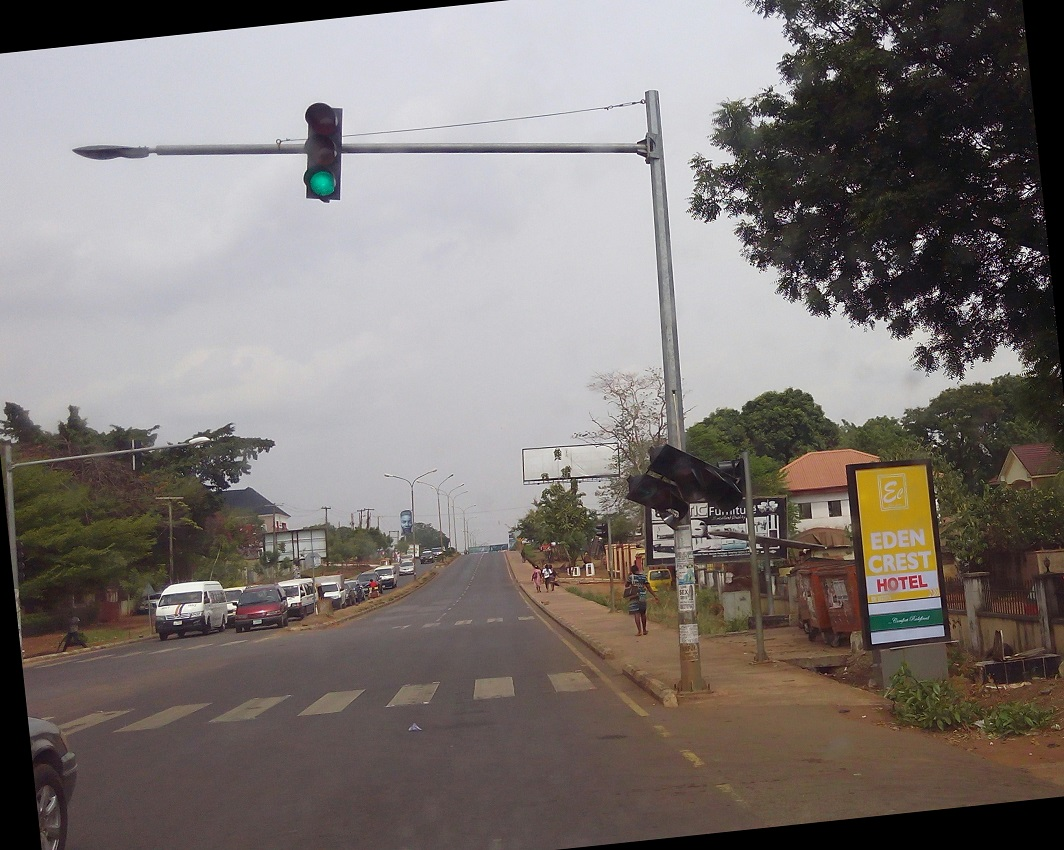traffic_light: (301, 101, 345, 205)
